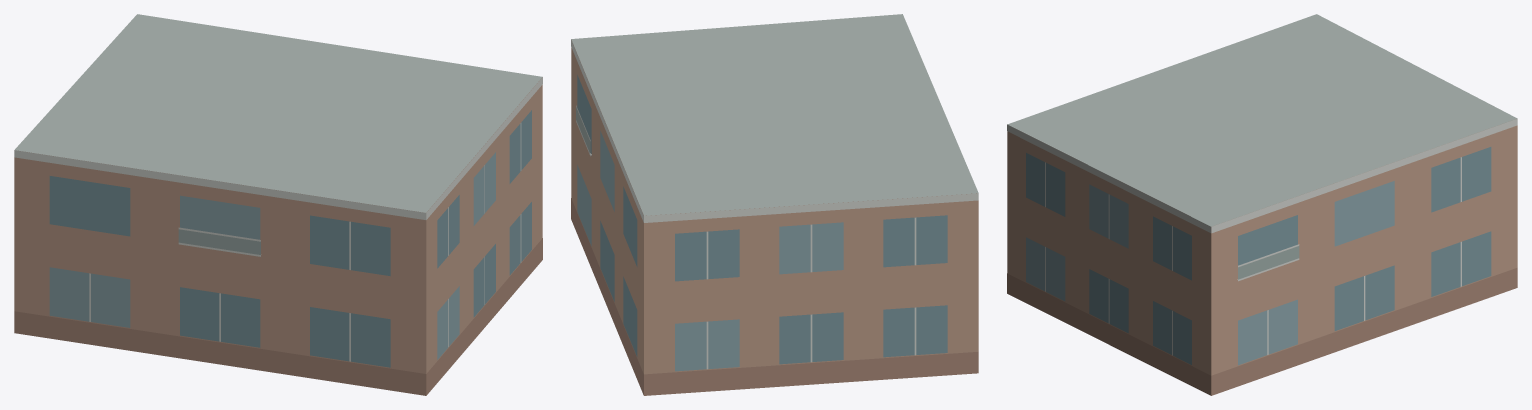
File: survey-upis-32832947.glb
3 renders of one model, left to right at view 1: azimuth 30°, elevation 25°; view 2: azimuth 150°, elevation 25°; view 3: azimuth 270°, elevation 25°, orthographic. The views are drawn at different scales.
Parts seen in each view (by area): view 1: survey-upis-32832947.tmp; view 2: survey-upis-32832947.tmp; view 3: survey-upis-32832947.tmp.
Part boxes in pixels (x1,y1,x2,y2): survey-upis-32832947.tmp: [14, 14, 542, 395]; survey-upis-32832947.tmp: [571, 14, 978, 395]; survey-upis-32832947.tmp: [1007, 14, 1517, 395].
Bounding box in the file's own units: 16.46 × 6.1 × 16.69.
